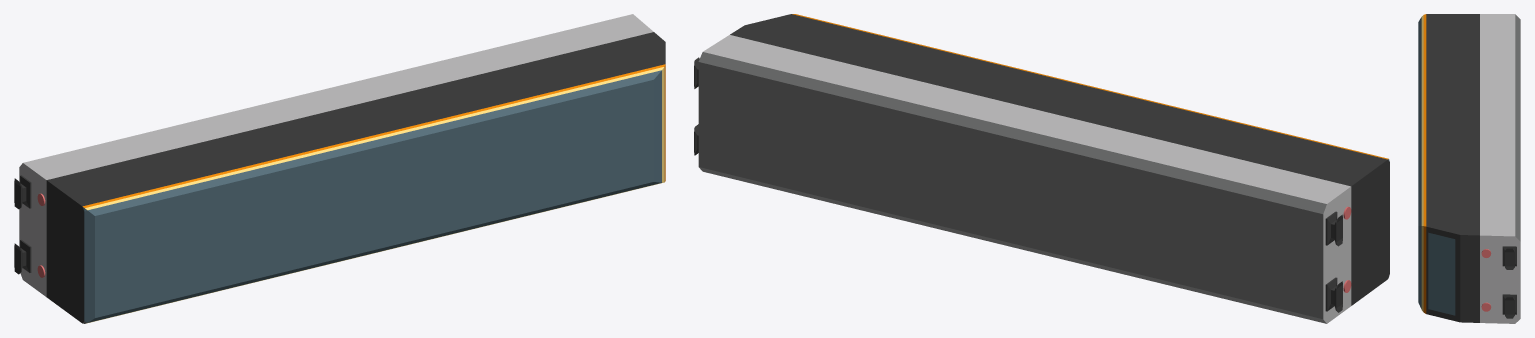
File: train.glb
The picture shows the model from 3 angles, left to right: view 1: azimuth 30°, elevation 25°; view 2: azimuth 150°, elevation 25°; view 3: azimuth 270°, elevation 25°; orthographic projection. The views are drawn at different scales.
Visible parts, largest first — view 1: locomotive 2, headlights; view 2: locomotive 2, headlights; view 3: locomotive 2, headlights.
Boxes of the visible parts, x1,y1,x2,y2 form: locomotive 2: [19, 14, 665, 323]; headlights: [14, 175, 45, 277]; locomotive 2: [698, 14, 1389, 323]; headlights: [694, 57, 1351, 312]; locomotive 2: [1418, 14, 1520, 323]; headlights: [1481, 246, 1516, 318].
Size of the model in its own units: 17.15 by 3.05 by 3.23.
2 materials, 2 textured.
